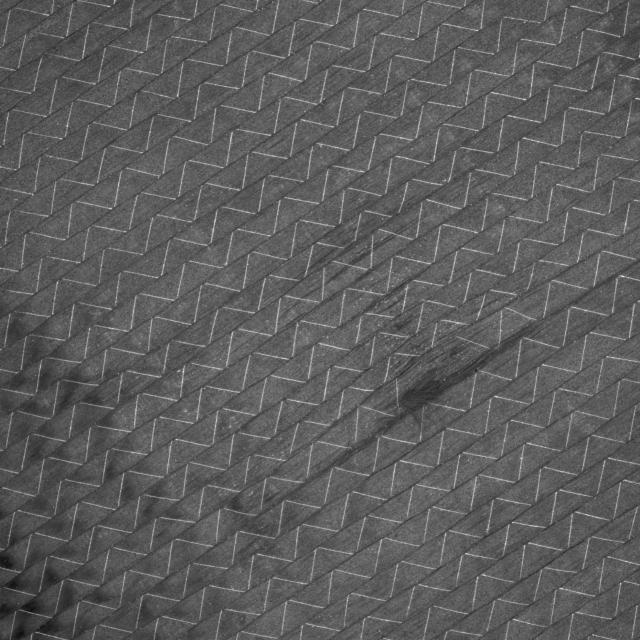carbon-fibre-defect: (357, 295, 544, 436), (271, 180, 450, 314), (381, 308, 474, 378), (380, 296, 448, 352)
